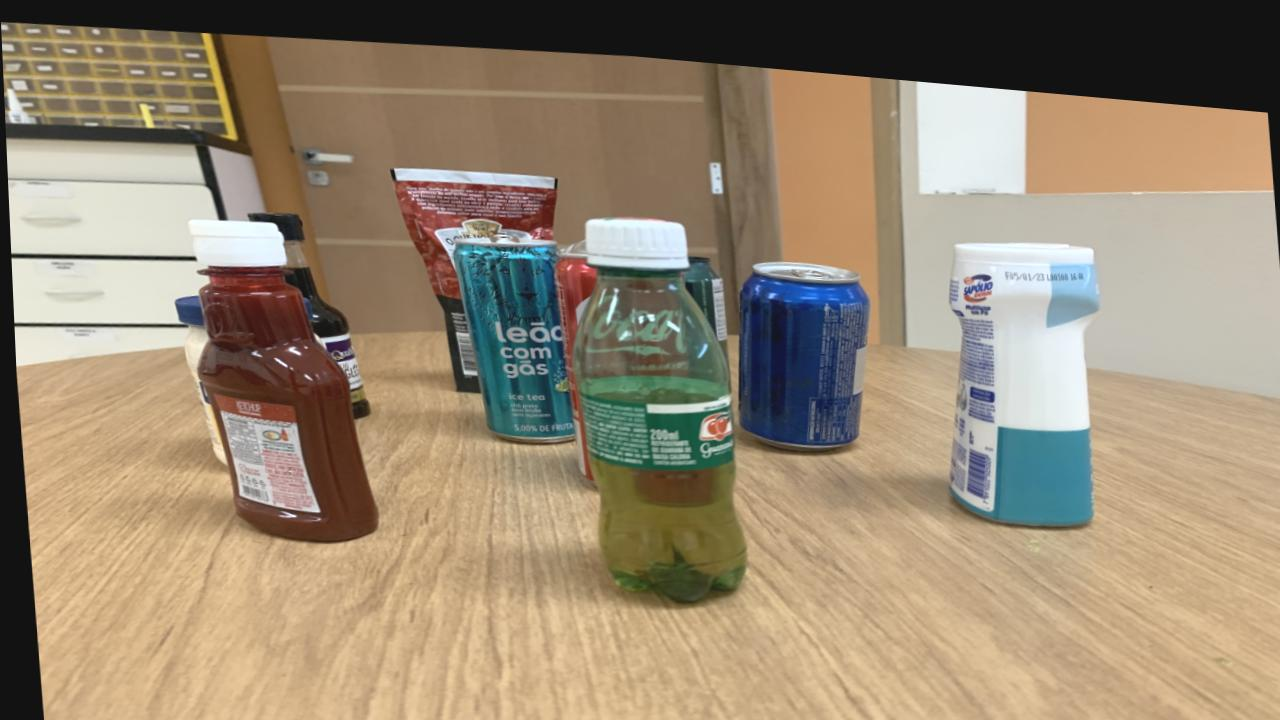Cleaner-Cleanup_Items: (945, 223, 1098, 507)
Coke-Drinks: (553, 230, 596, 470)
English_Sauce-Pantry_Items: (246, 207, 366, 411)
Guarana-Drinks: (569, 206, 742, 590)
Guarana_Can-Drinks: (682, 243, 725, 344)
Ketchup-Pantry_Items: (187, 216, 374, 536)
Mayonnaise-Pantry_Items: (172, 293, 223, 461)
Tea-Drinks: (450, 232, 572, 433)
Tomato_Sauce-Pantry_Items: (389, 160, 557, 383)
Tonic-Drinks: (735, 247, 869, 436)
